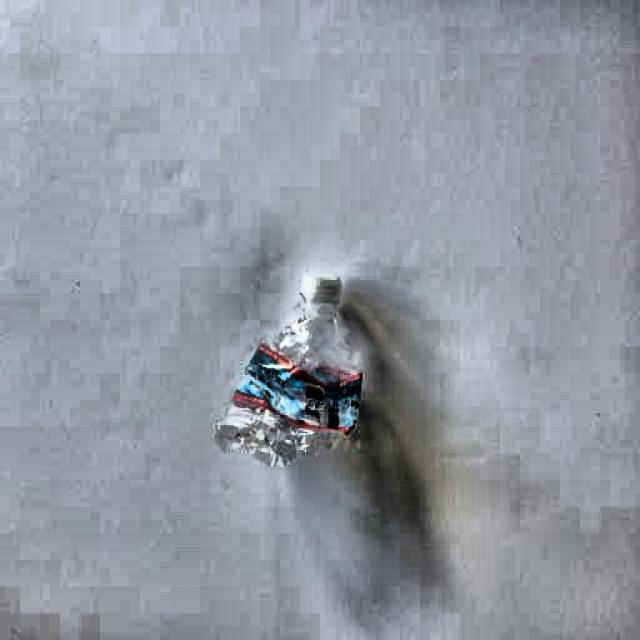plastic: (216, 268, 371, 476)
